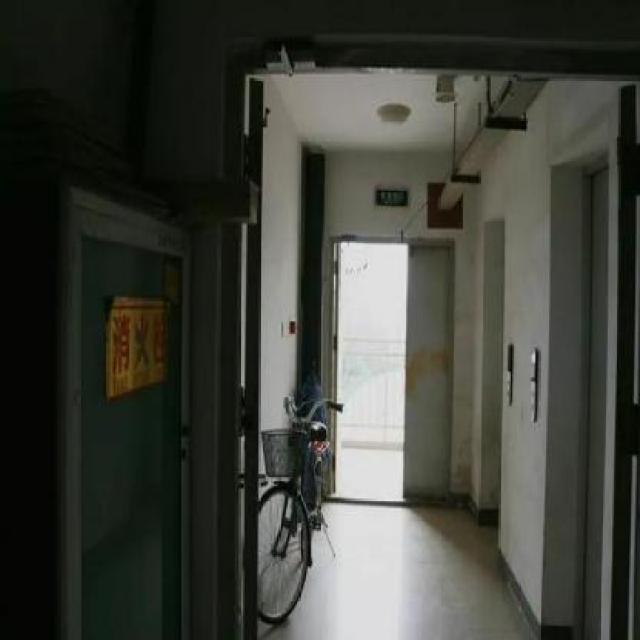exit_sign: (372, 178, 413, 214)
